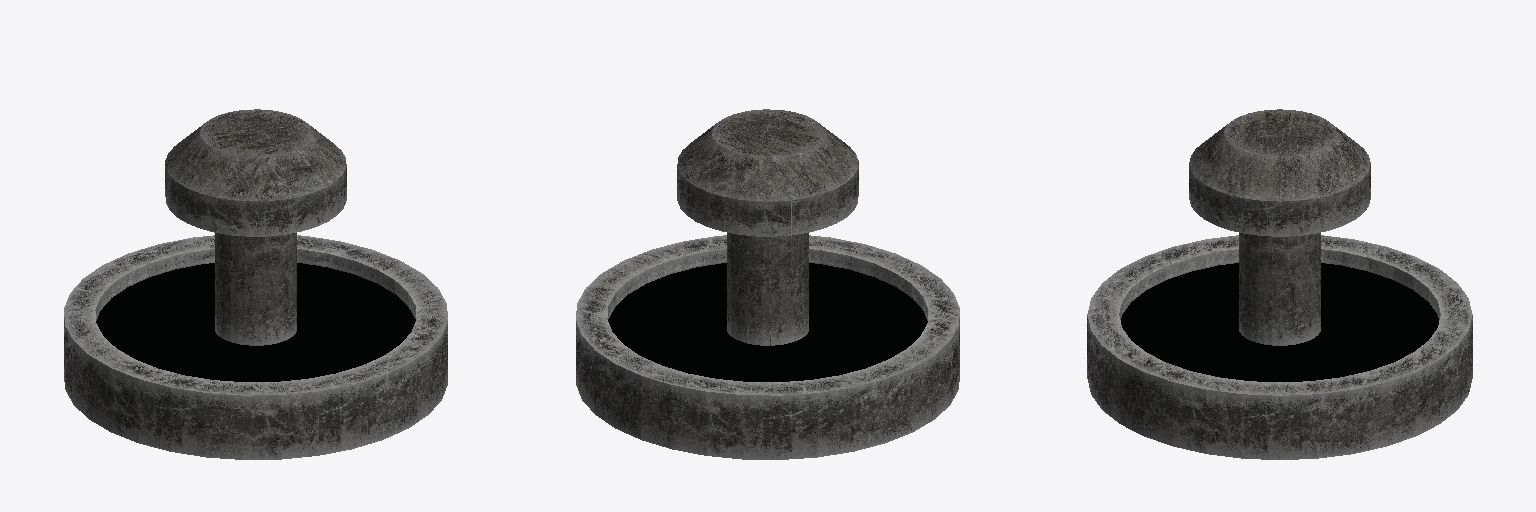
3 views of the same model, side by side, from view 1: azimuth 30°, elevation 25°; view 2: azimuth 150°, elevation 25°; view 3: azimuth 270°, elevation 25° (orthographic).
Visible parts, largest first — view 1: fountain, water; view 2: fountain, water; view 3: fountain, water.
Boxes of the visible parts, x1=… form: fountain: x1=64, y1=109, x2=447, y2=459; water: x1=96, y1=263, x2=415, y2=381; fountain: x1=576, y1=109, x2=959, y2=459; water: x1=608, y1=263, x2=927, y2=381; fountain: x1=1087, y1=109, x2=1472, y2=459; water: x1=1121, y1=263, x2=1438, y2=381.
Bounding box in the file's own units: 400 × 282 × 400.
Materials: 2 (1 with a texture image).